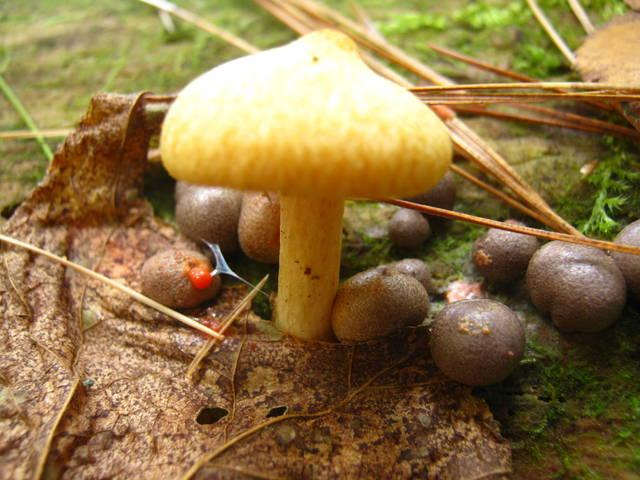poisonous_mushroom: (158, 27, 453, 341), (525, 238, 626, 333), (428, 297, 525, 386), (330, 265, 429, 344), (139, 246, 223, 309)
